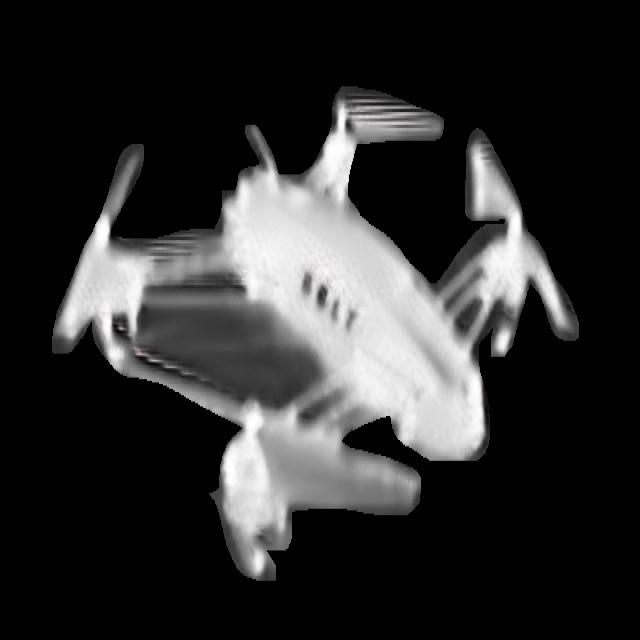drone: (50, 76, 588, 586)
